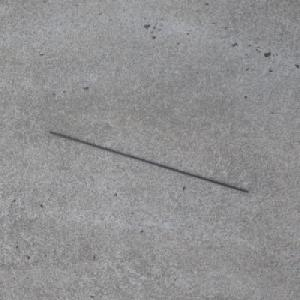LuggagePart: (45, 130, 249, 194)
